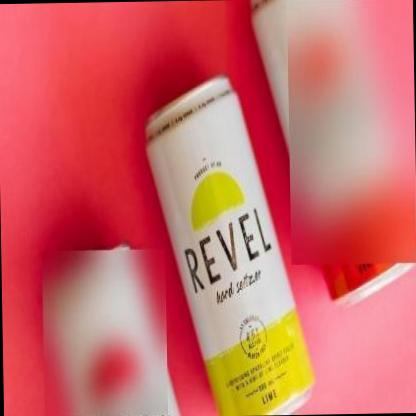alumunium_can: (144, 70, 316, 416)
